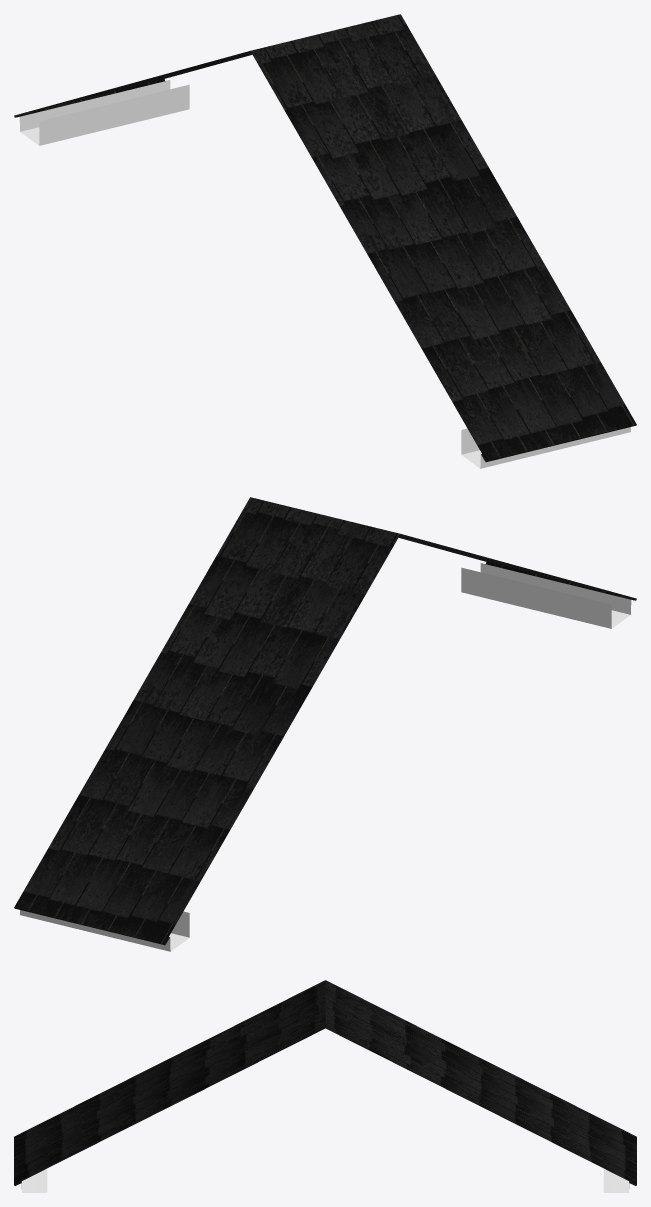
Rendered from Roof.fbx.
The picture shows the model from 3 angles, top to bottom: view 1: azimuth 30°, elevation 25°; view 2: azimuth 150°, elevation 25°; view 3: azimuth 270°, elevation 25°; orthographic projection. The views are drawn at different scales.
Visible parts, largest first — view 1: Roof; view 2: Roof; view 3: Roof.
Boxes of the visible parts, <box> form: Roof: <box>14,14,636,468</box>; Roof: <box>14,497,636,951</box>; Roof: <box>14,980,636,1192</box>.
Bounding box in the file's own units: 200 × 317 × 1088.
